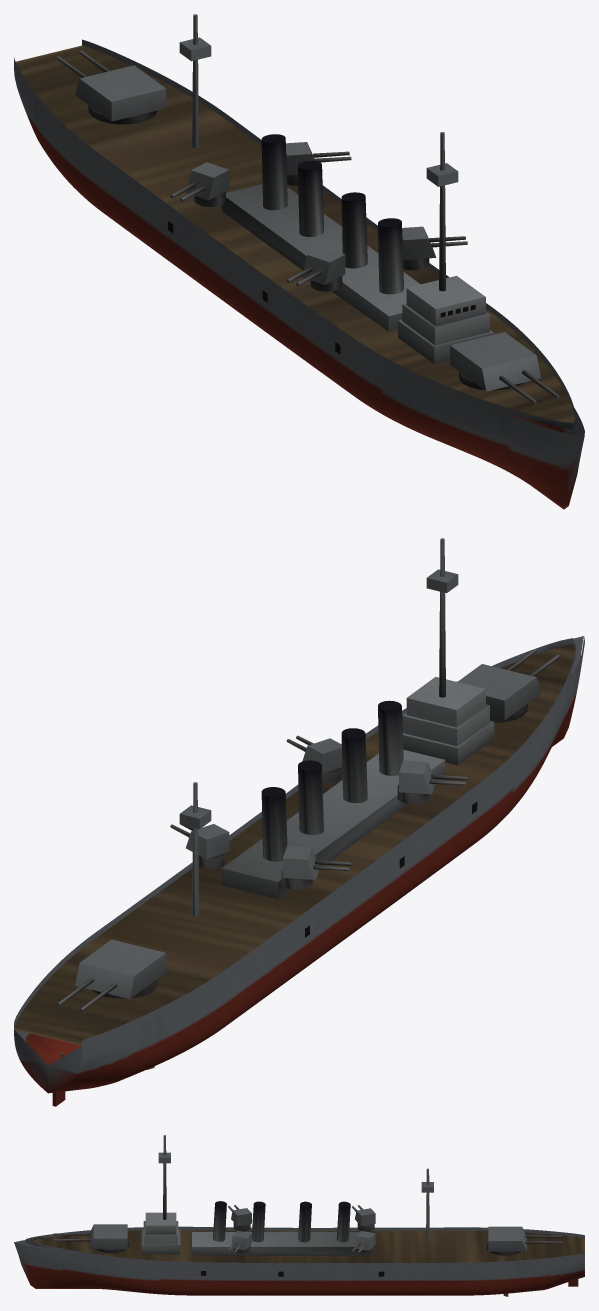
File: model_built.glb
3 views of the same model, one above another, from view 1: azimuth 30°, elevation 25°; view 2: azimuth 150°, elevation 25°; view 3: azimuth 270°, elevation 25° (orthographic). The views are drawn at different scales.
Visible parts, largest first — view 1: main; view 2: main; view 3: main.
Boxes of the visible parts, x1=… form: main: x1=14, y1=14, x2=584, y2=509; main: x1=14, y1=538, x2=584, y2=1106; main: x1=14, y1=1135, x2=584, y2=1296.
Size of the model in its own units: 28.41 by 43.95 by 148.
Materials: 1 (1 with a texture image).
